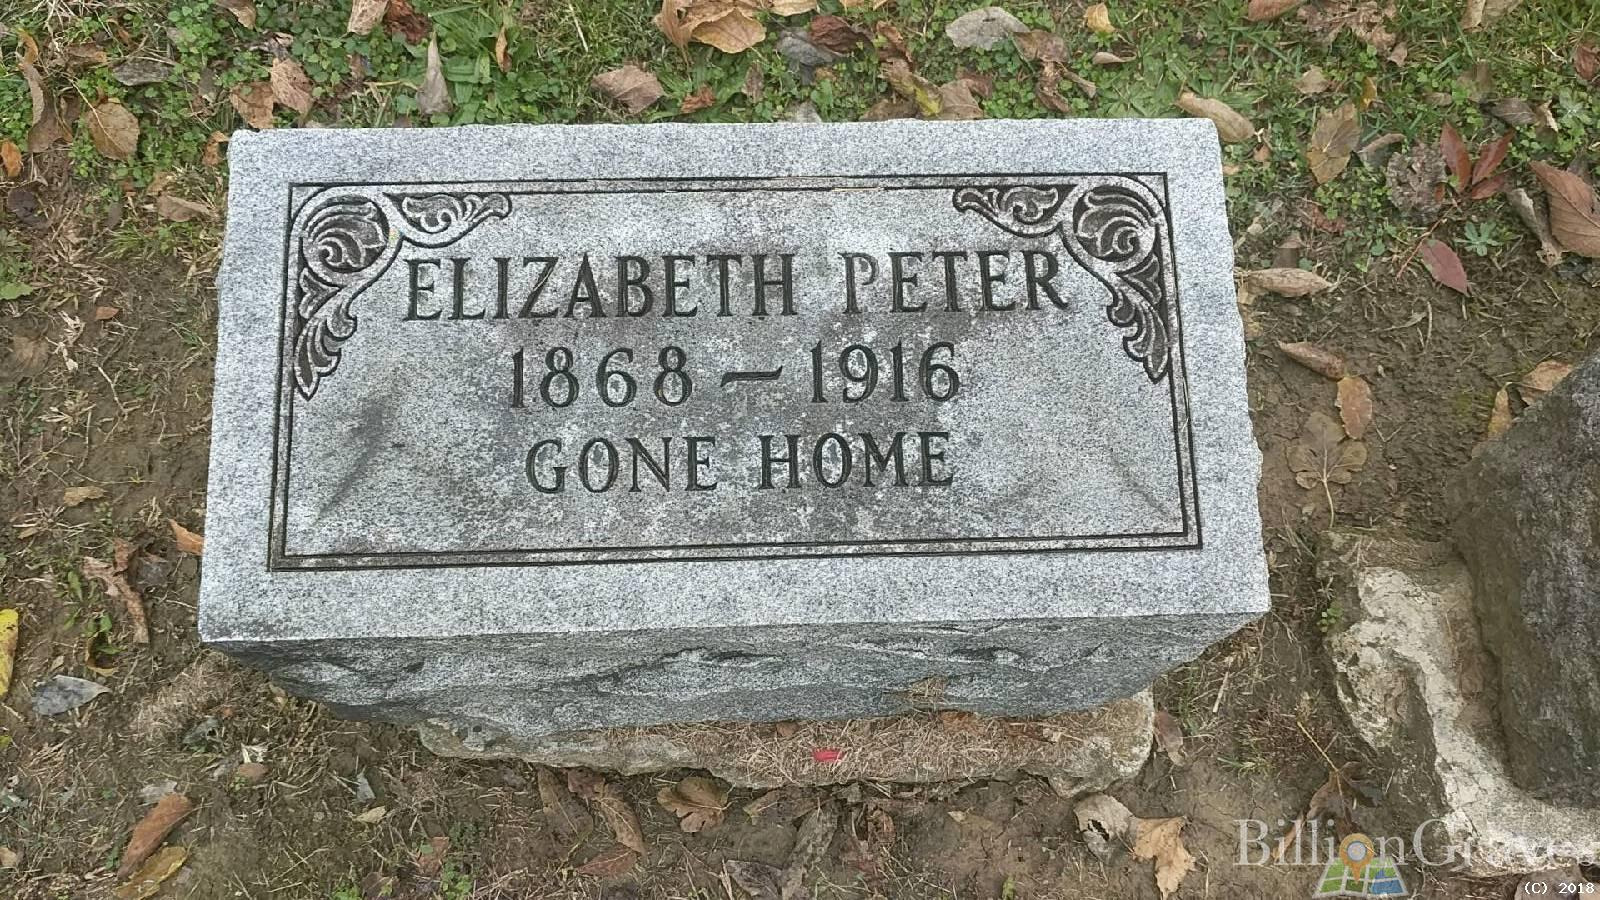flat: (195, 114, 1267, 705)
